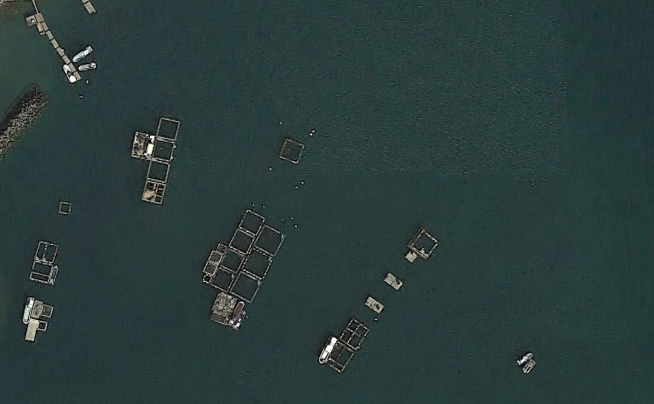ship: (312, 327, 338, 366), (230, 300, 249, 334), (66, 42, 95, 62), (18, 295, 36, 325), (60, 60, 77, 86), (513, 346, 535, 366), (522, 357, 541, 376), (74, 61, 100, 73)
square: (335, 313, 375, 354), (239, 245, 280, 282), (252, 222, 289, 260), (406, 223, 442, 260), (229, 267, 264, 305), (320, 338, 357, 372), (24, 258, 62, 288), (236, 206, 268, 238), (277, 134, 310, 165), (135, 179, 172, 206), (215, 246, 249, 275), (206, 265, 240, 292), (152, 114, 183, 143), (141, 158, 174, 185), (226, 228, 259, 255), (29, 237, 59, 266), (147, 138, 178, 164), (55, 198, 76, 216)
